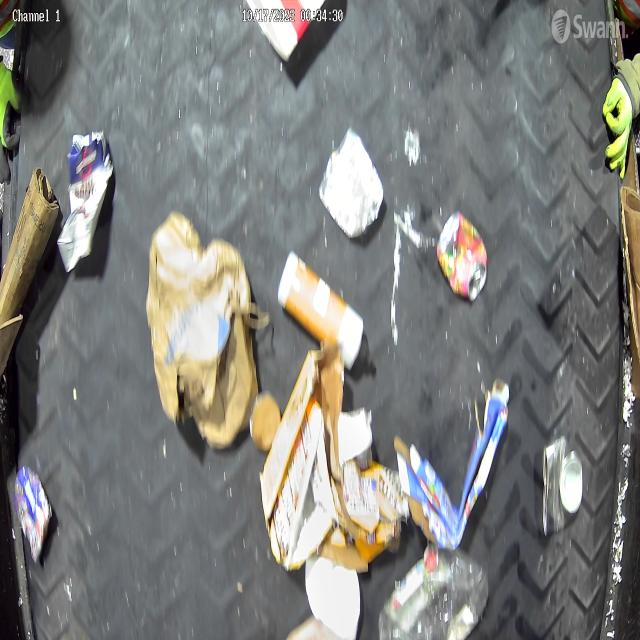can: (320, 130, 384, 241), (436, 211, 488, 304), (542, 438, 583, 534)
non_white_jug: (56, 133, 115, 273)
plastic_bottle: (382, 548, 489, 640)
